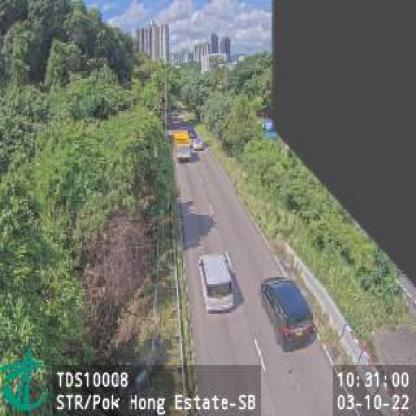Car: (259, 276, 312, 348), (198, 252, 233, 310)
Truck: (173, 128, 191, 161)
